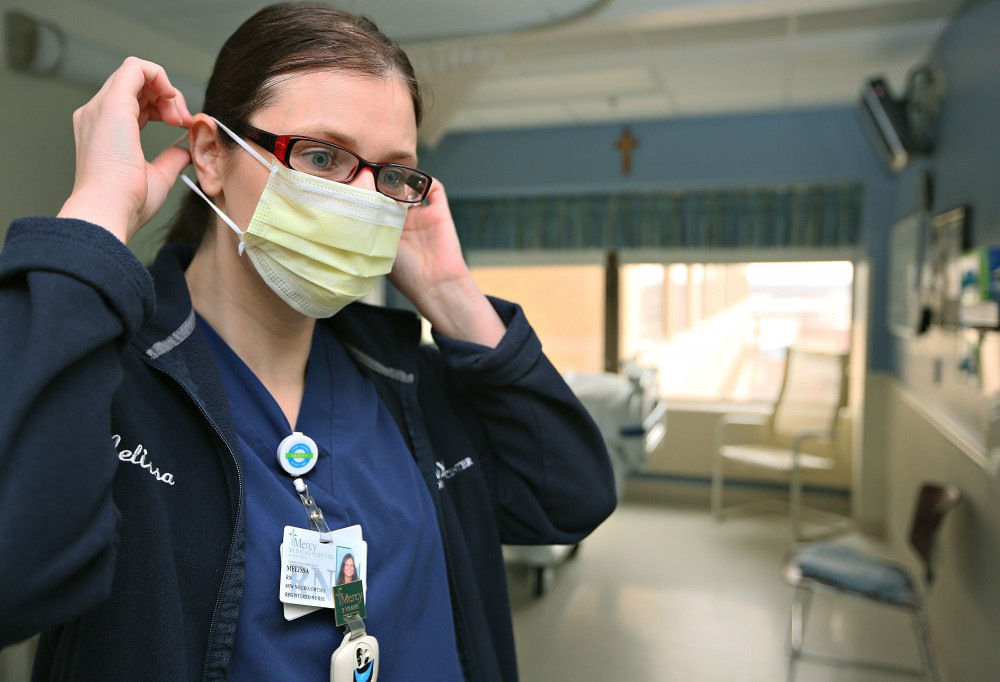mask: (242, 167, 406, 323)
